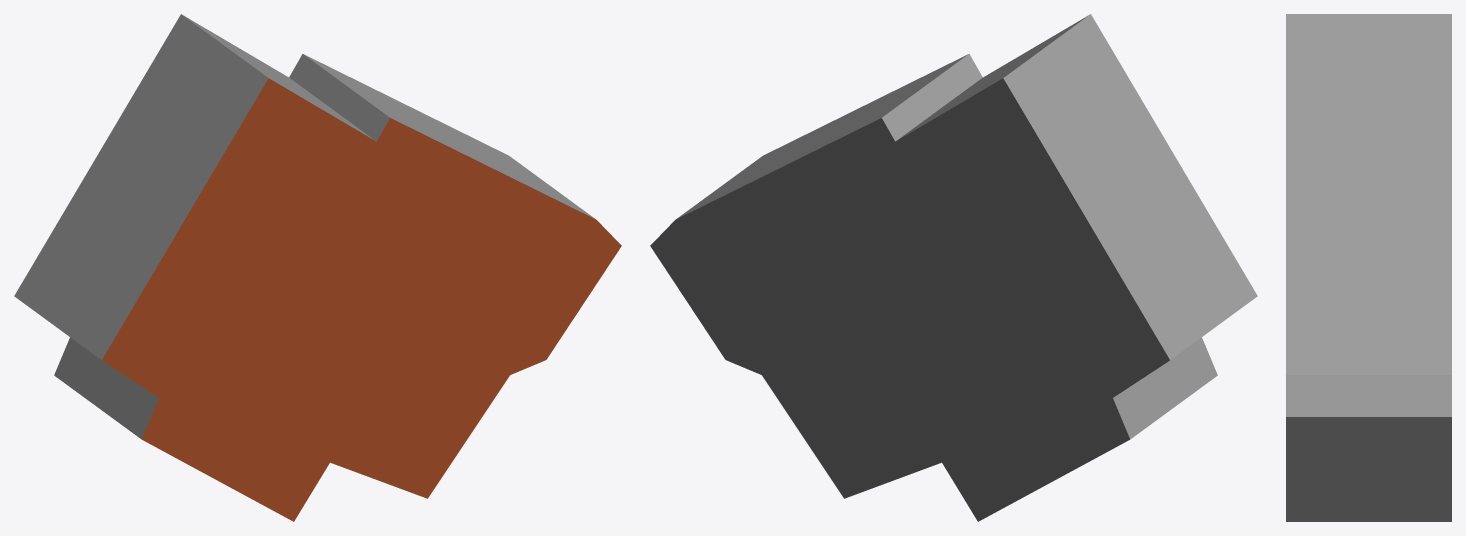
File: construction_6945_assumed_A_Casa_h6m.obj
The picture shows the model from 3 angles, left to right: view 1: azimuth 30°, elevation 25°; view 2: azimuth 150°, elevation 25°; view 3: azimuth 270°, elevation 25°; orthographic projection. The views are drawn at different scales.
Parts seen in each view (by area): view 1: construction_6945_assumed_A_Casa; view 2: construction_6945_assumed_A_Casa; view 3: construction_6945_assumed_A_Casa.
Boxes of the visible parts, left/top/right/bottom form: construction_6945_assumed_A_Casa: left=14, top=14, right=621, bottom=521; construction_6945_assumed_A_Casa: left=650, top=14, right=1257, bottom=521; construction_6945_assumed_A_Casa: left=1286, top=14, right=1451, bottom=521.
Size of the model in its own units: 20.56 by 17.36 by 6.
